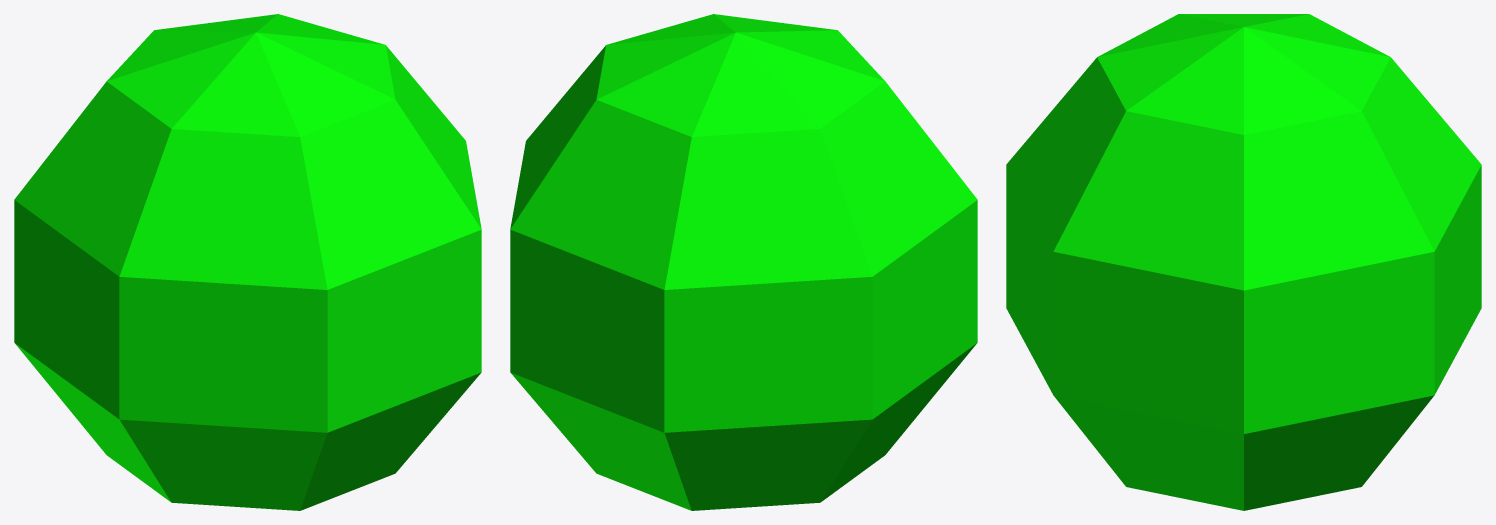
The model's file is visGeo_LeftHandMesh.obj.
3 renders of one model, left to right at view 1: azimuth 30°, elevation 25°; view 2: azimuth 150°, elevation 25°; view 3: azimuth 270°, elevation 25°, orthographic.
Visible parts, largest first — view 1: visGeo_LeftHand; view 2: visGeo_LeftHand; view 3: visGeo_LeftHand.
Boxes of the visible parts, <box> form: visGeo_LeftHand: <box>14,14,481,510</box>; visGeo_LeftHand: <box>510,14,977,510</box>; visGeo_LeftHand: <box>1006,14,1481,510</box>.
Bounding box in the file's own units: 0.9323 × 1.03 × 0.9563.
